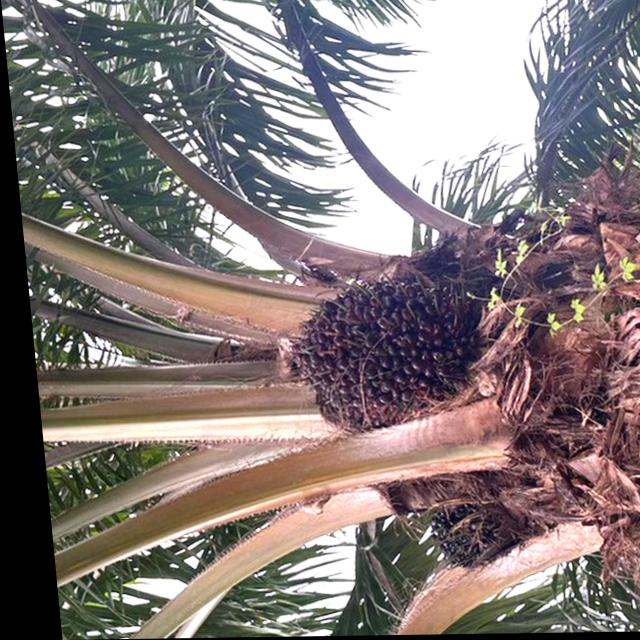ripe: (252, 257, 490, 446)
